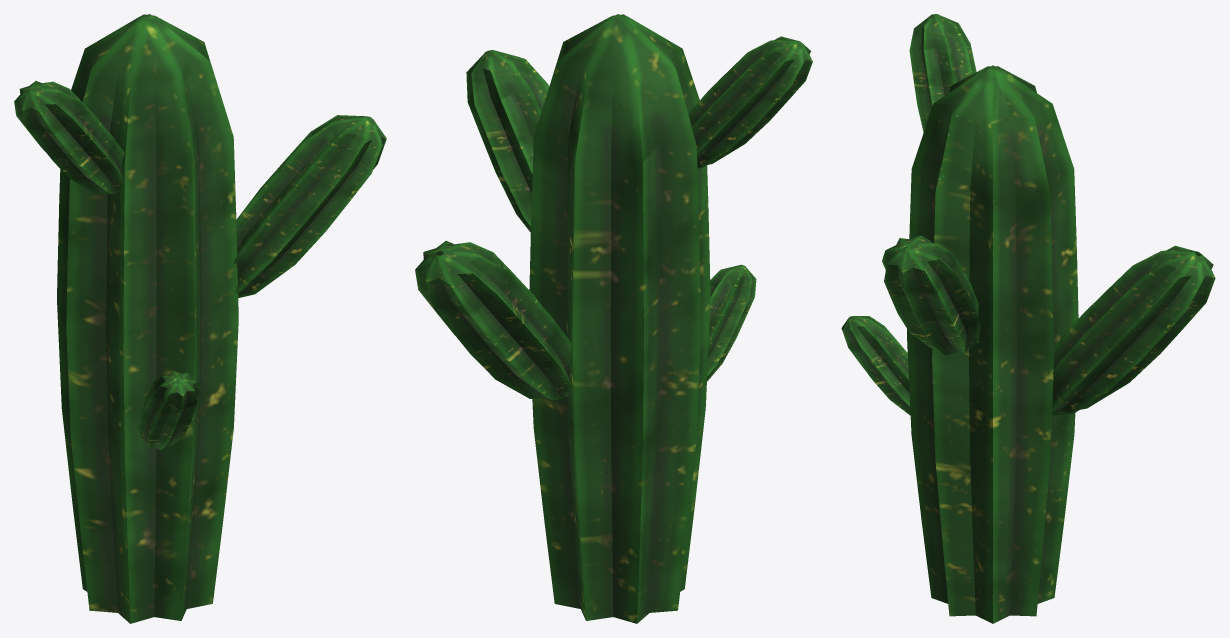
Rendered from cactus.dae.
3 views of the same model, side by side, from view 1: azimuth 30°, elevation 25°; view 2: azimuth 150°, elevation 25°; view 3: azimuth 270°, elevation 25° (orthographic). The views are drawn at different scales.
Visible parts, largest first — view 1: Cylinder; view 2: Cylinder; view 3: Cylinder.
Boxes of the visible parts, x1=… form: Cylinder: x1=14, y1=14, x2=386, y2=623; Cylinder: x1=415, y1=14, x2=812, y2=623; Cylinder: x1=841, y1=14, x2=1215, y2=623.
Bounding box in the file's own units: 1.36 × 1.38 × 2.16.
